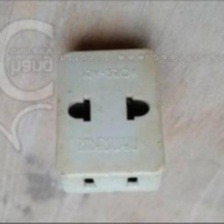three_eye_plug: (50, 45, 164, 199)
